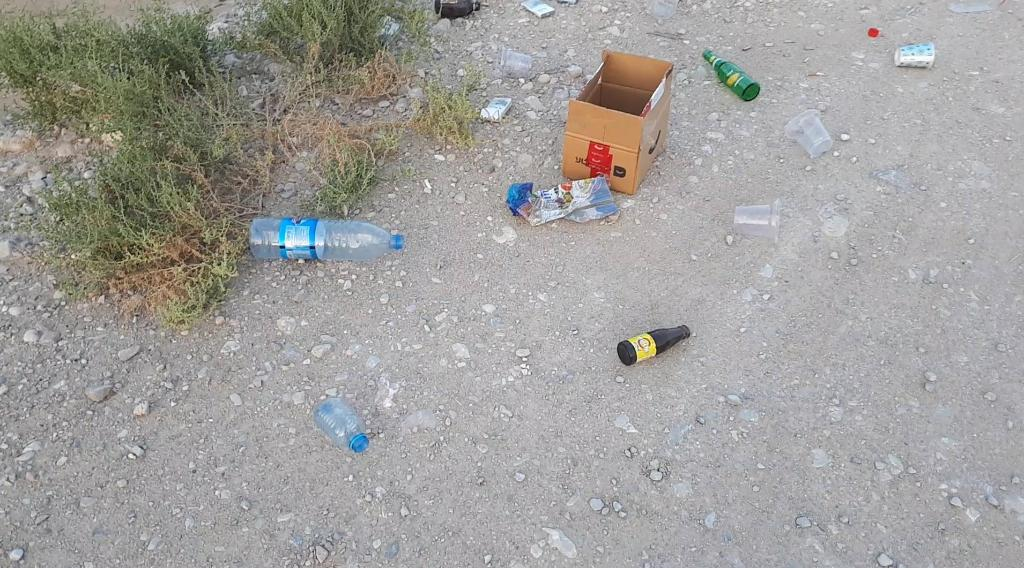garbage: (536, 31, 710, 225), (241, 200, 426, 286), (501, 167, 643, 245), (690, 31, 781, 122), (606, 304, 713, 376), (249, 218, 404, 261), (304, 389, 381, 466), (882, 33, 949, 80), (314, 396, 369, 453), (617, 325, 691, 366), (702, 49, 760, 101), (418, 0, 492, 35), (434, 1, 480, 18)
